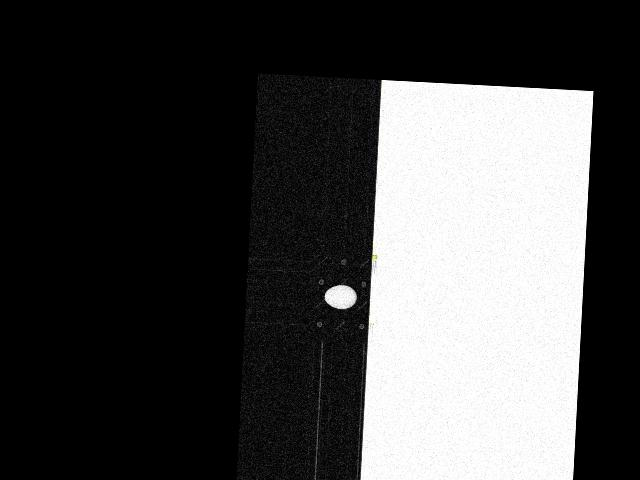egg: (324, 284, 357, 310)
